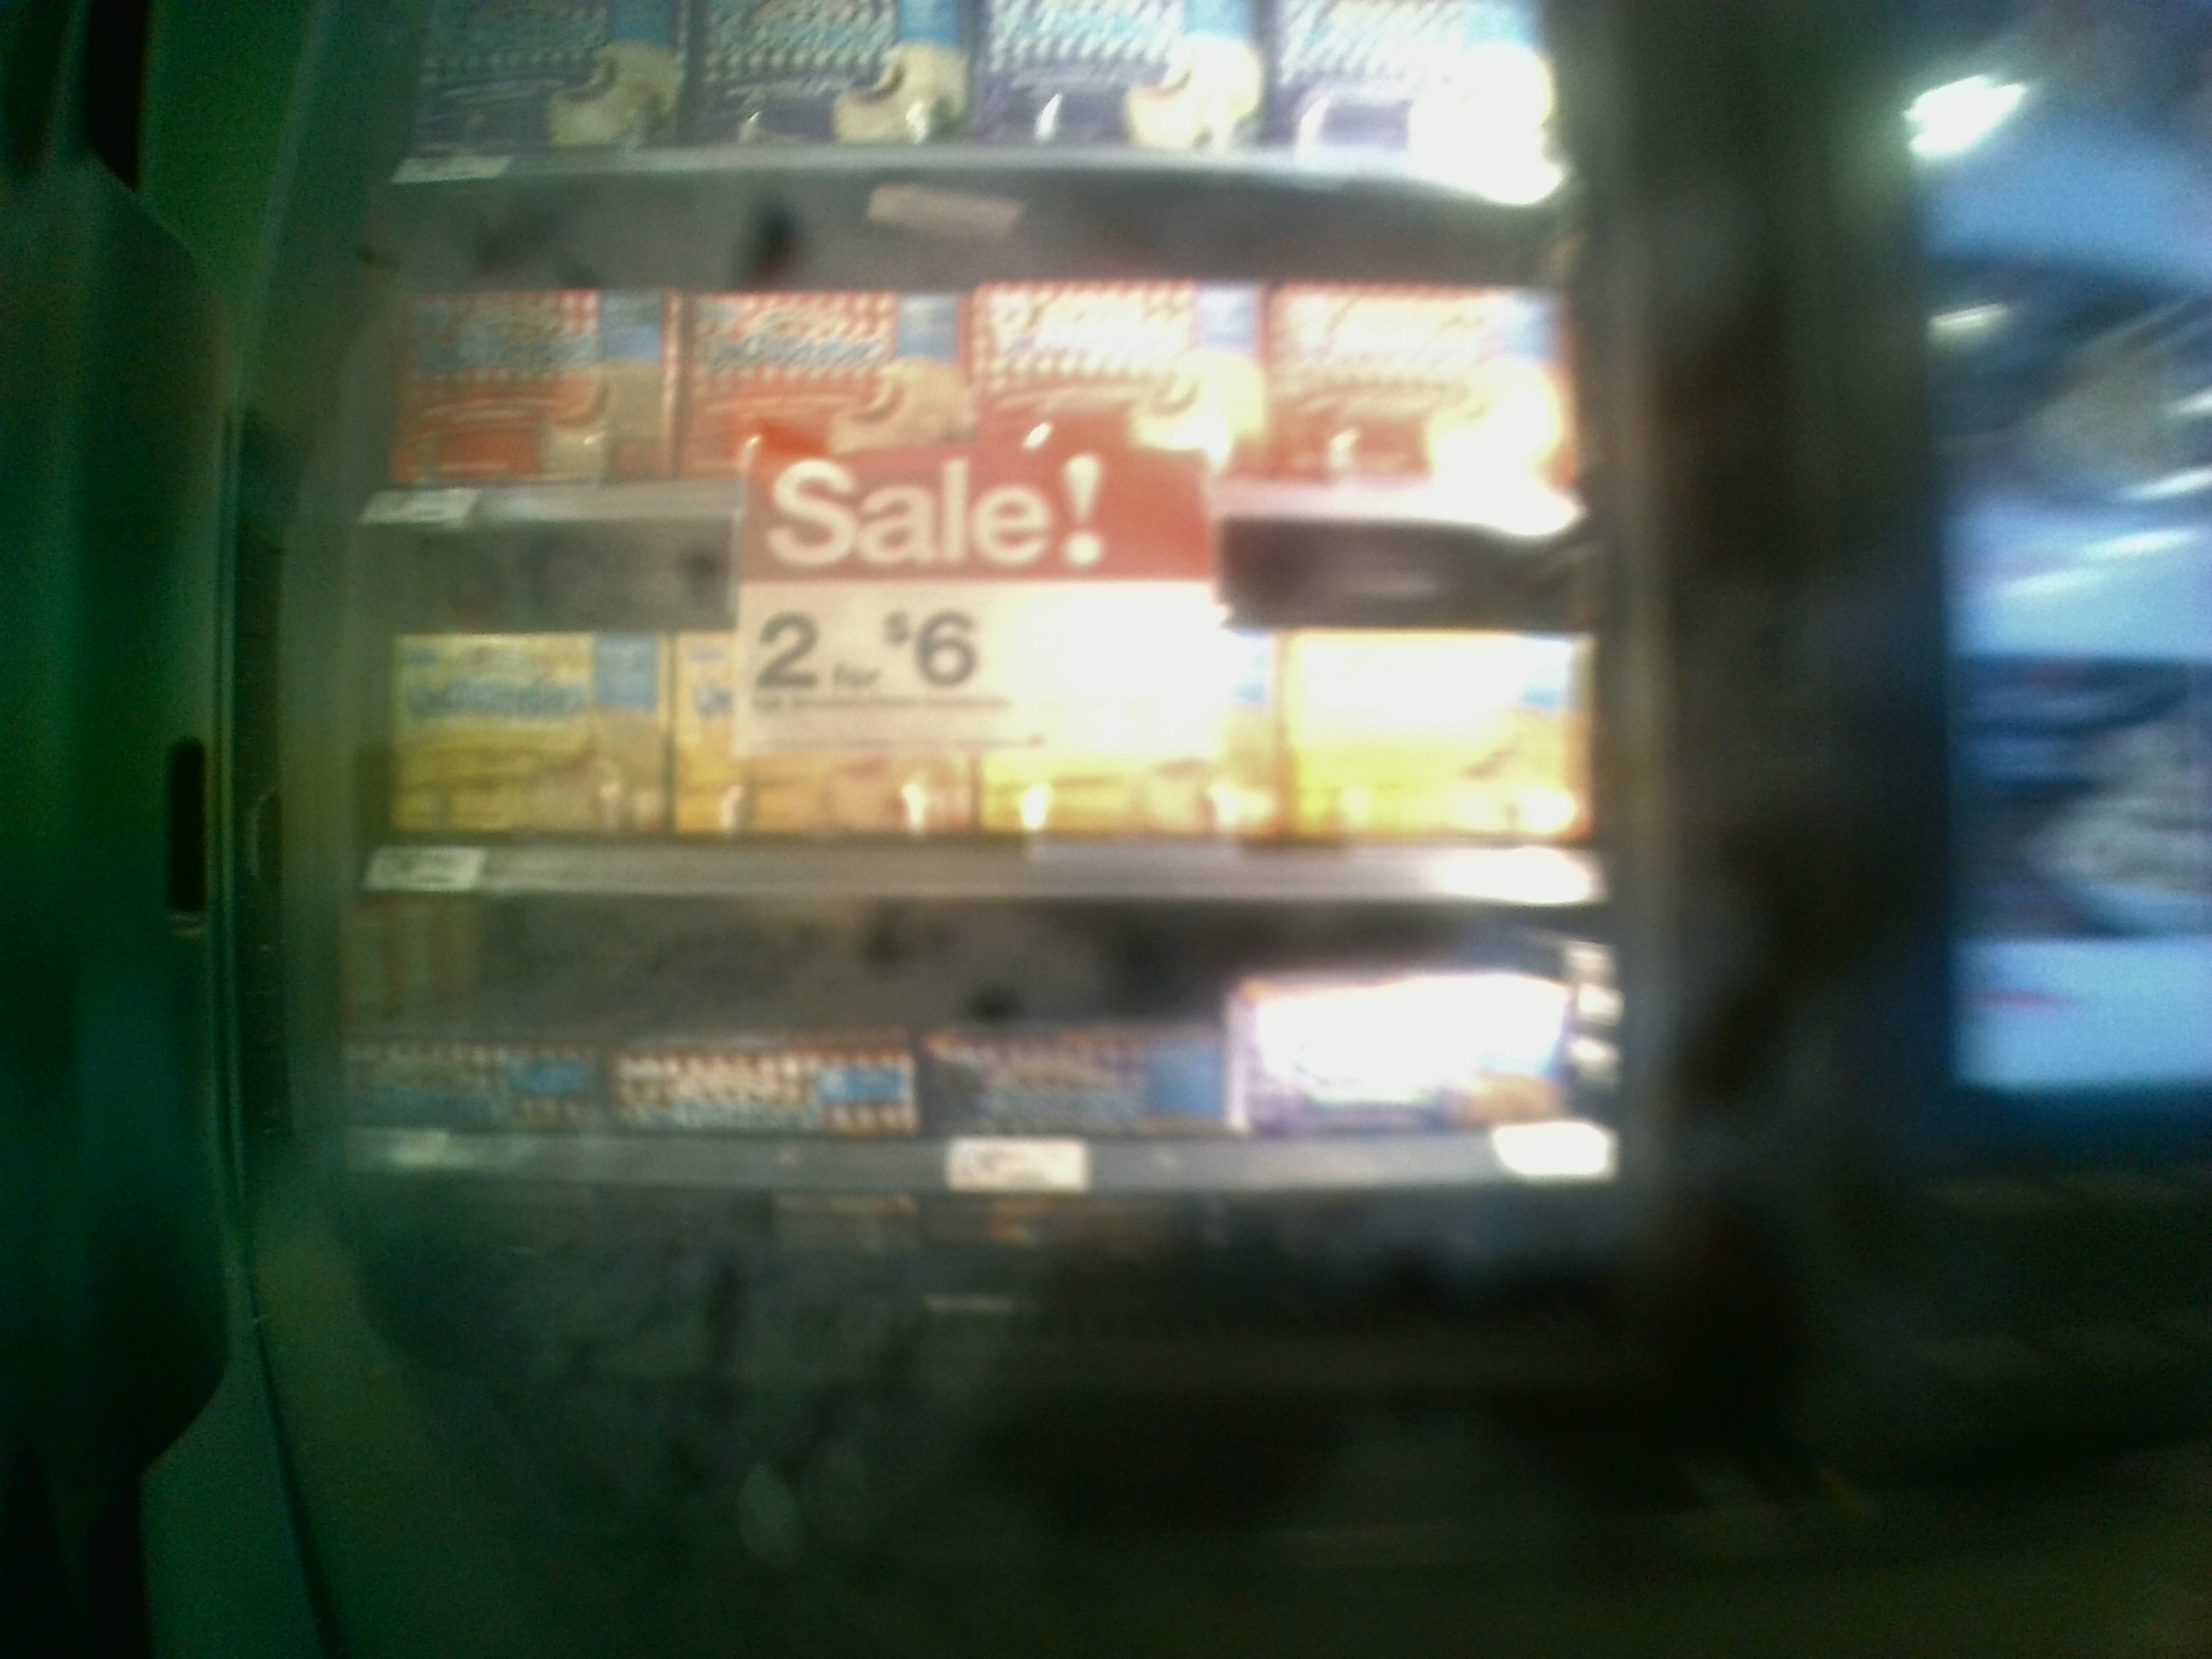shelf: (359, 882, 1635, 1384), (361, 540, 1615, 901), (374, 173, 1578, 528)
